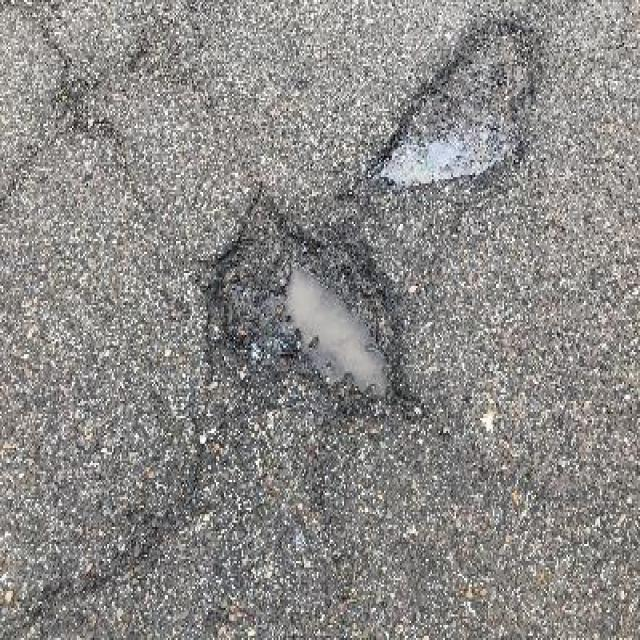pothole: (200, 180, 421, 422), (368, 13, 549, 192)
